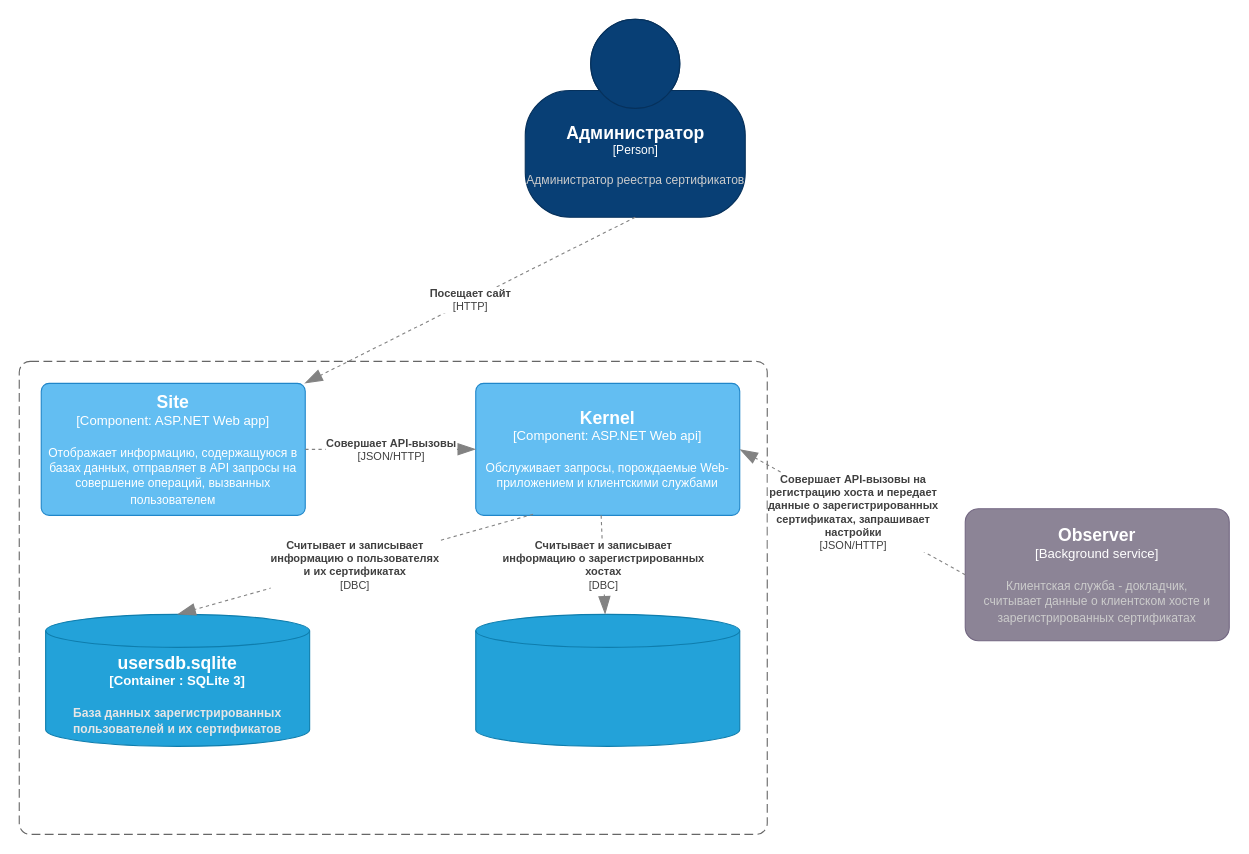
This 1249x854 diagram has some shape labels left out. Each missing label, with the box of its shape:
hostsdb.sqlite [Container: SQLite 3] База данных зарегистрированных хостов: (475, 613, 740, 746)
Диаграмма внутреннего устройства проекта WA4D0G [Container]: (18, 360, 767, 834)
